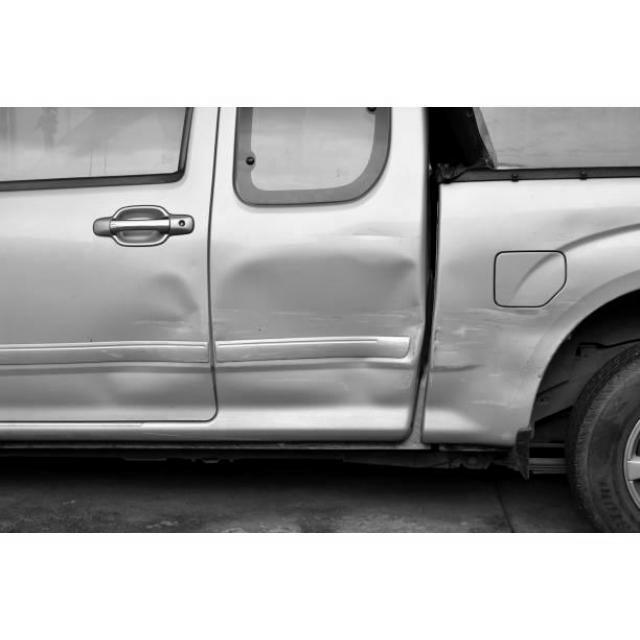doorouter-dent: (3, 175, 217, 429), (215, 192, 427, 433)
quaterpanel-dent: (427, 181, 623, 441)
